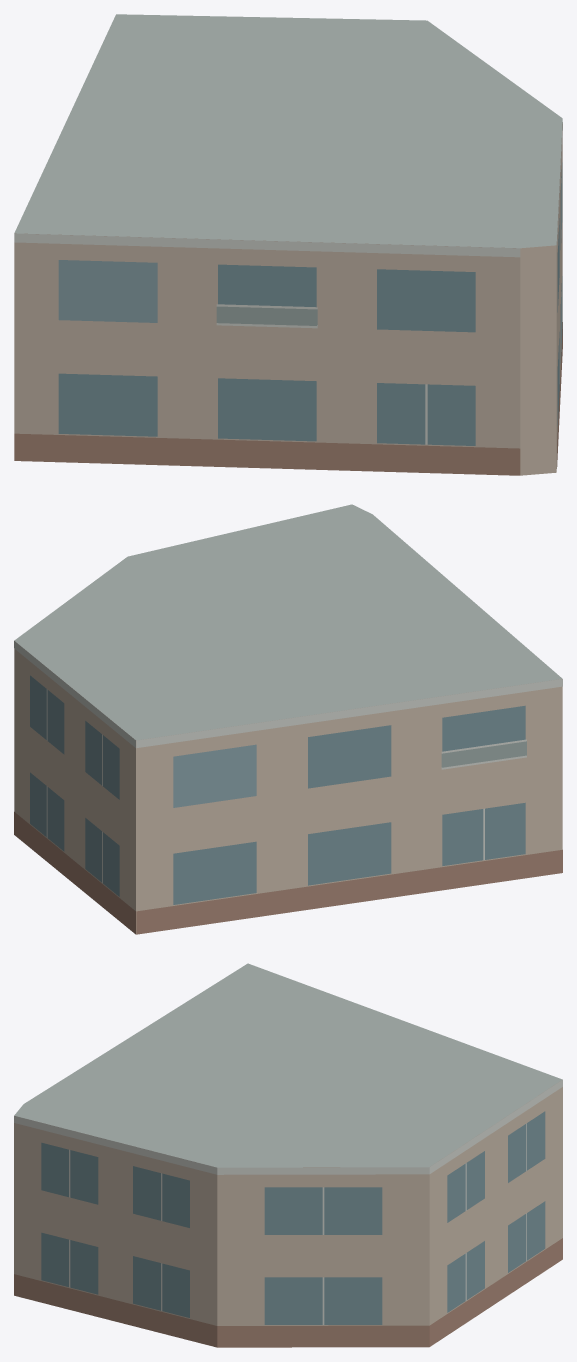
The model's file is survey-upis-32500214.glb.
3 views of the same model, one above another, from view 1: azimuth 30°, elevation 25°; view 2: azimuth 150°, elevation 25°; view 3: azimuth 270°, elevation 25° (orthographic). The views are drawn at different scales.
Visible parts, largest first — view 1: survey-upis-32500214.tmp; view 2: survey-upis-32500214.tmp; view 3: survey-upis-32500214.tmp.
Boxes of the visible parts, <box> form: survey-upis-32500214.tmp: <box>14,14,562,475</box>; survey-upis-32500214.tmp: <box>14,504,562,934</box>; survey-upis-32500214.tmp: <box>14,963,562,1347</box>.
Size of the model in its own units: 14.87 by 6.1 by 16.87.
